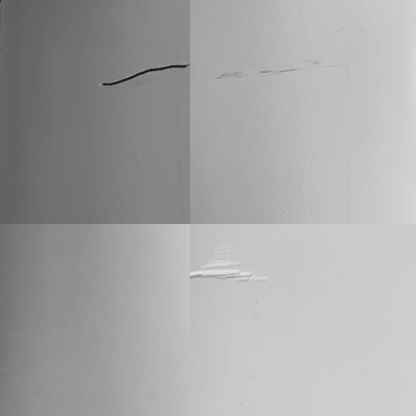fengxi: (94, 61, 192, 88)
sunshang: (191, 247, 262, 287)
